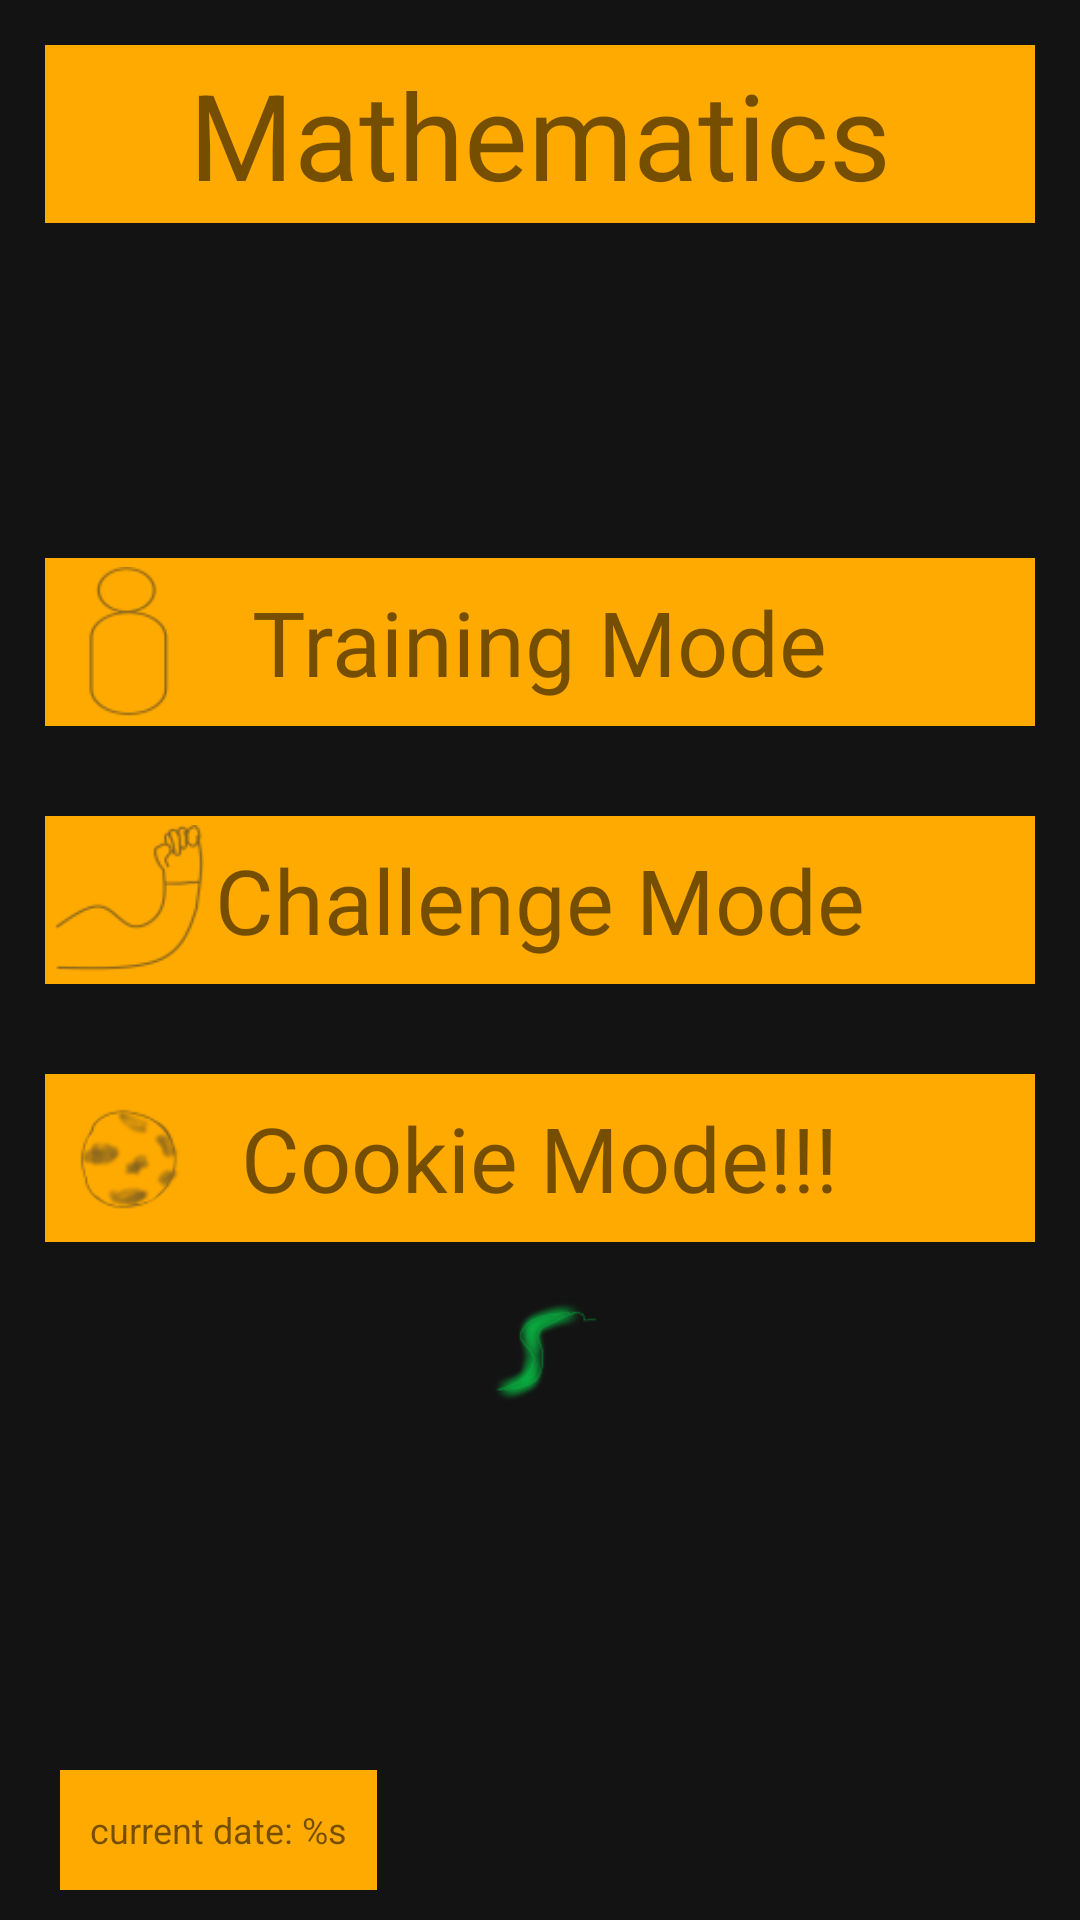

Named icons in this screenshot (1080×1920) and their bounding boxes, (x1, y1, x2, y2):
muscle: (56, 825, 203, 970)
single: (89, 567, 168, 715)
snake: (497, 1306, 596, 1398)
